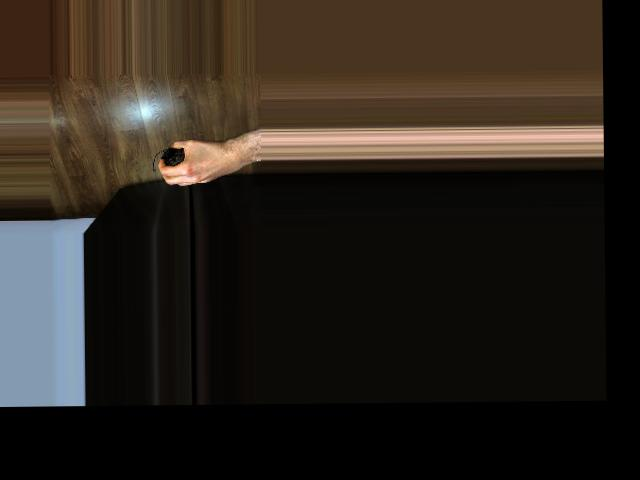beet: (151, 147, 184, 171)
